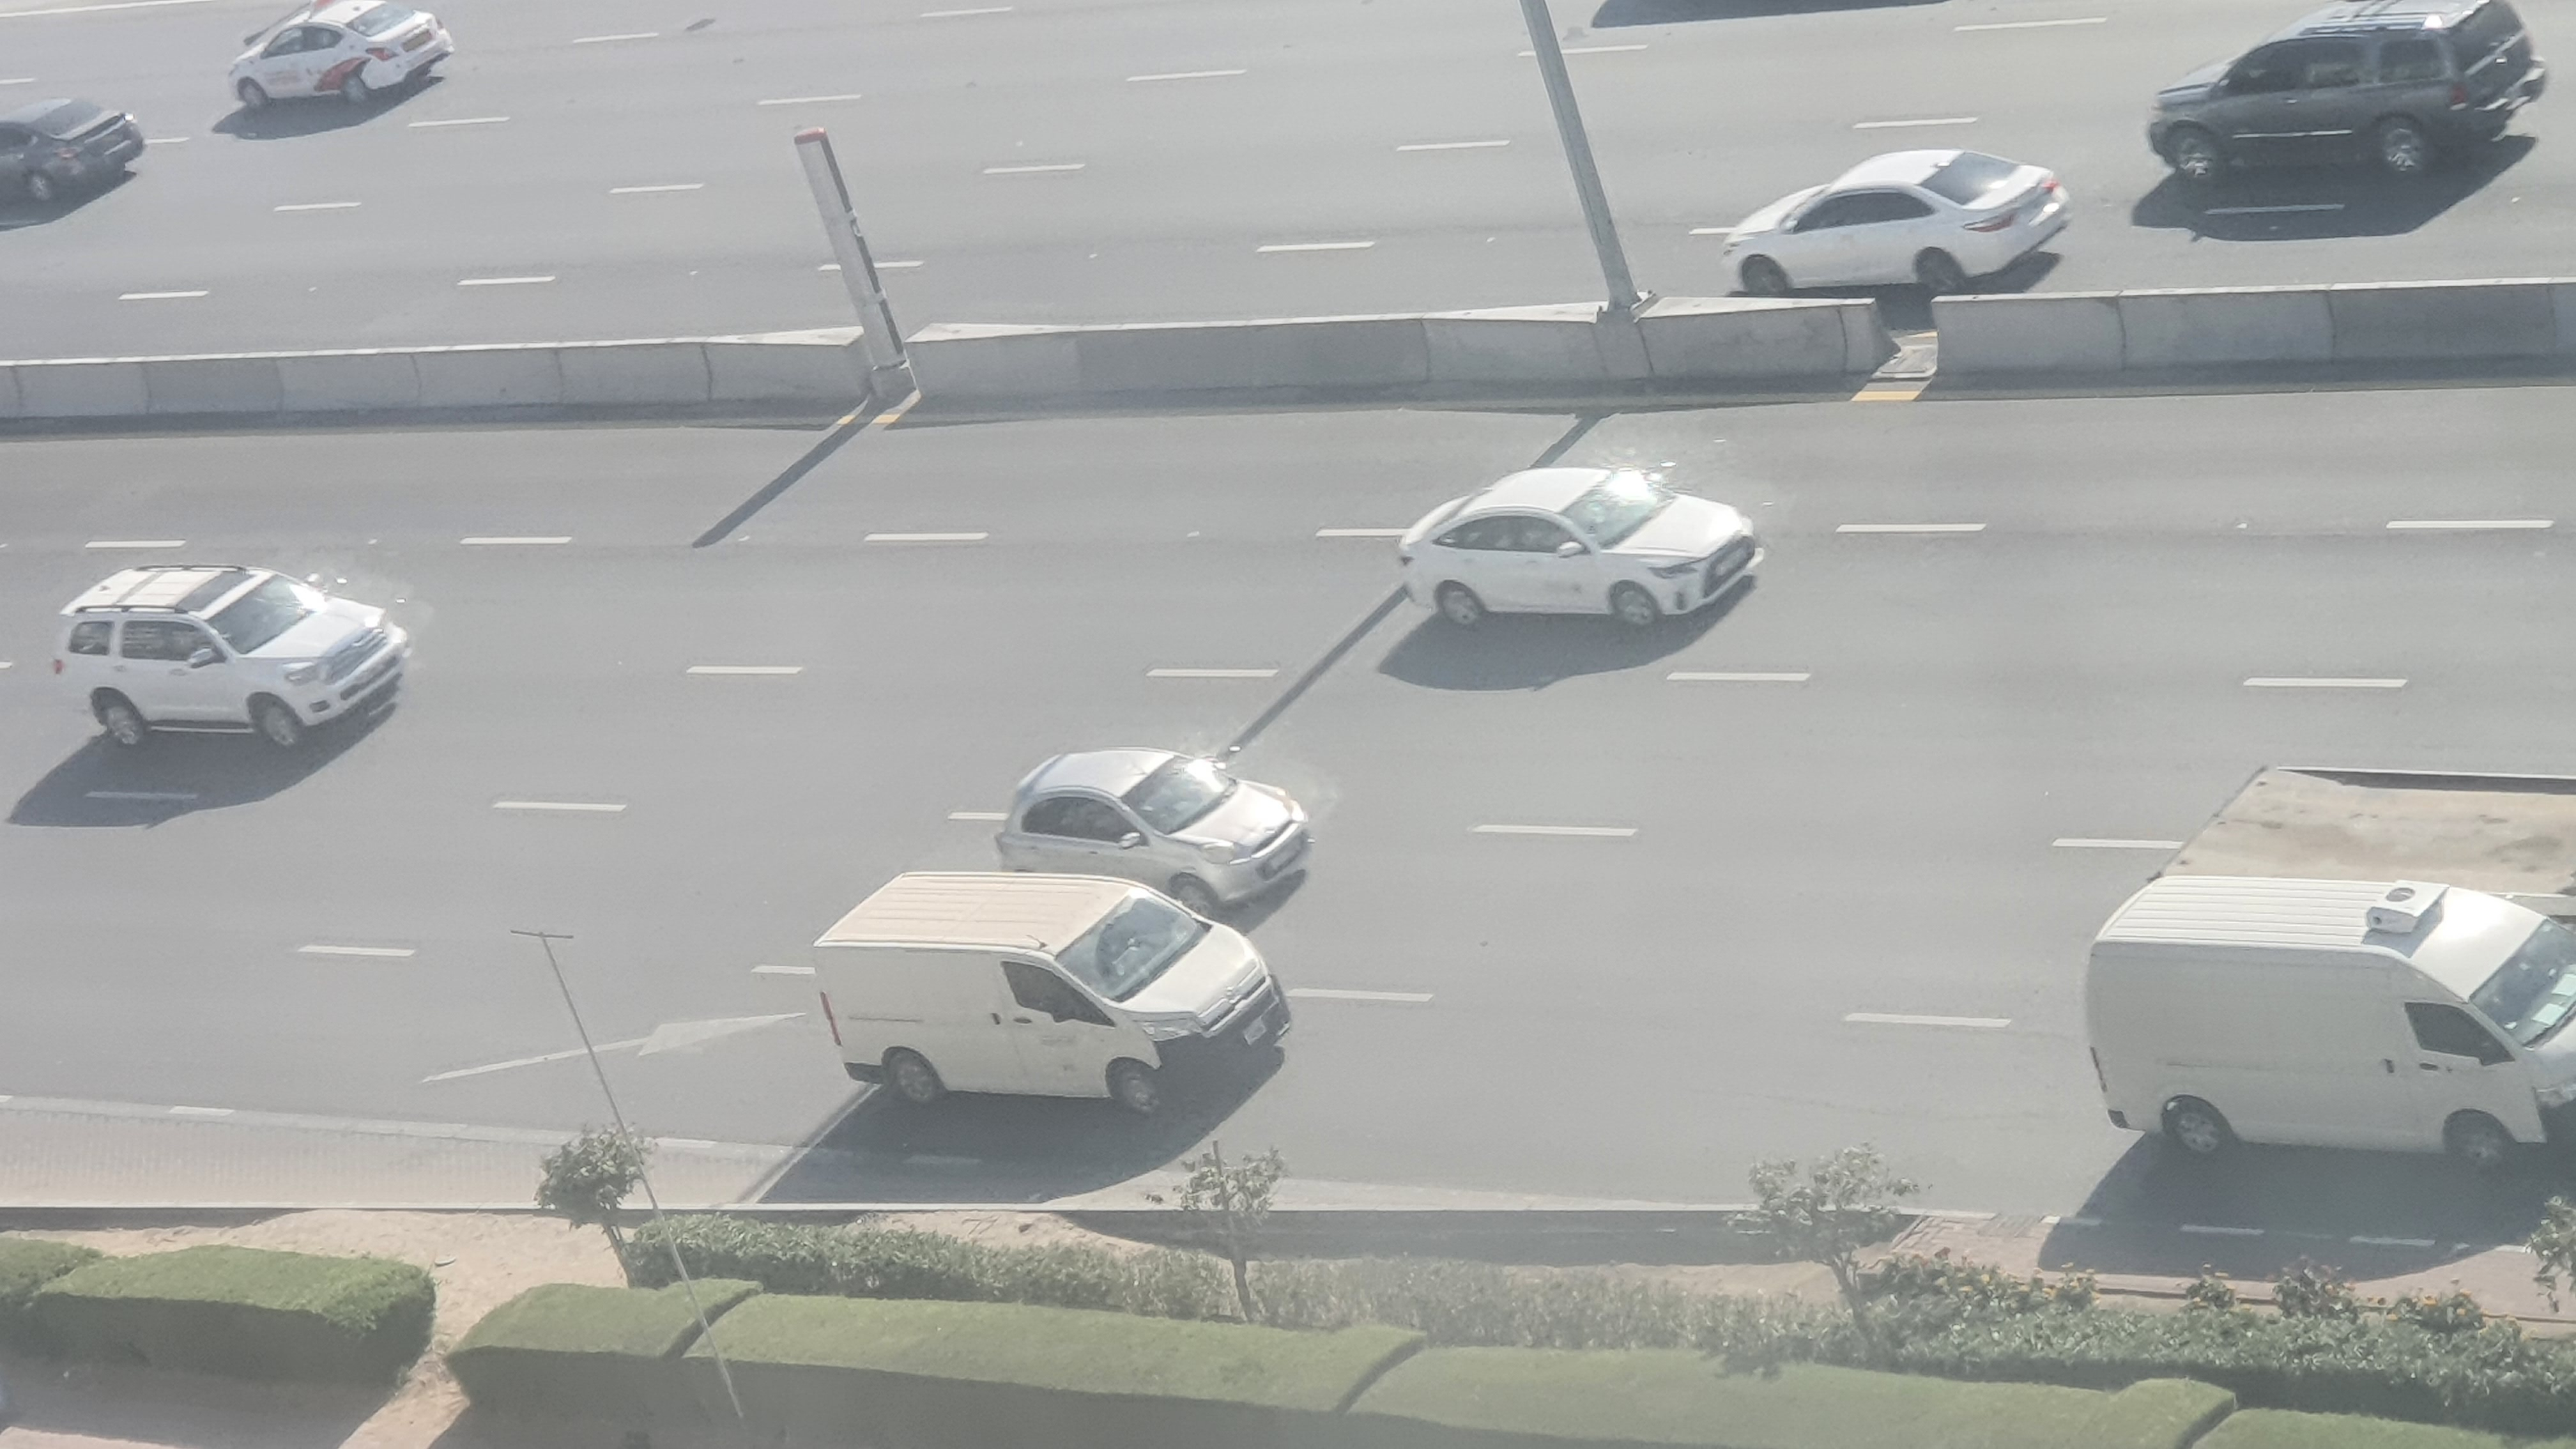NotSunroof: (1391, 467, 1762, 635), (985, 745, 1311, 876)
Sunroof: (51, 556, 412, 759)
